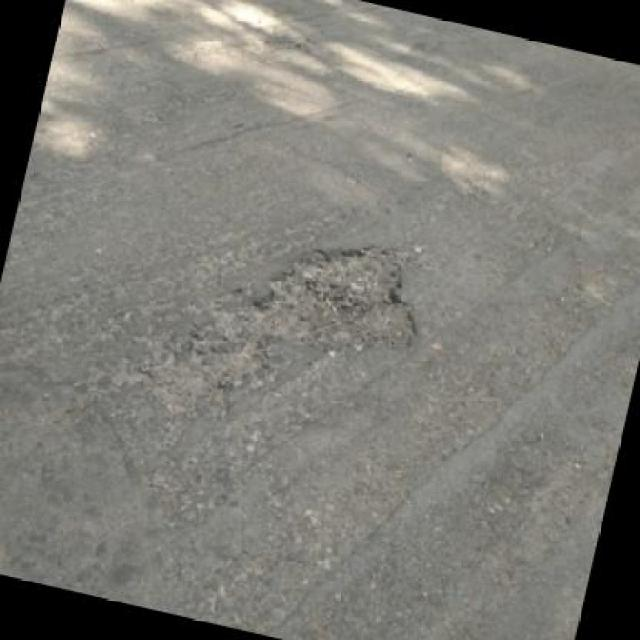pothole1: (239, 220, 435, 382), (124, 317, 278, 432), (238, 25, 308, 63)
